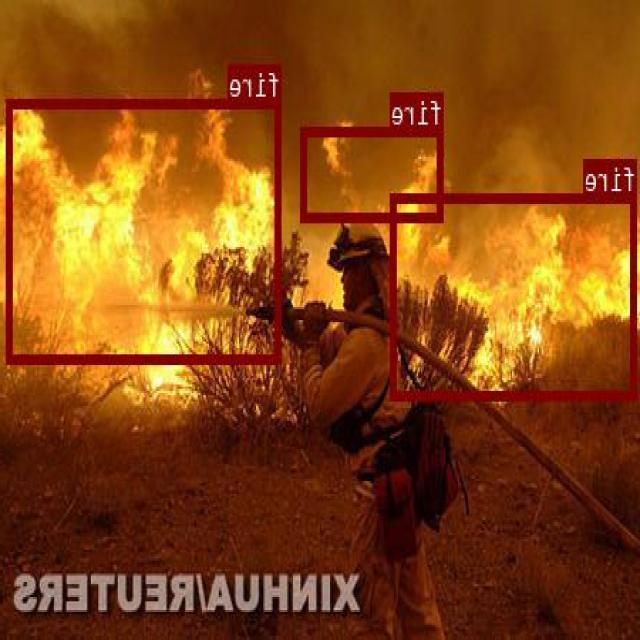fire: (8, 98, 282, 363), (392, 193, 638, 398), (303, 126, 445, 220)
